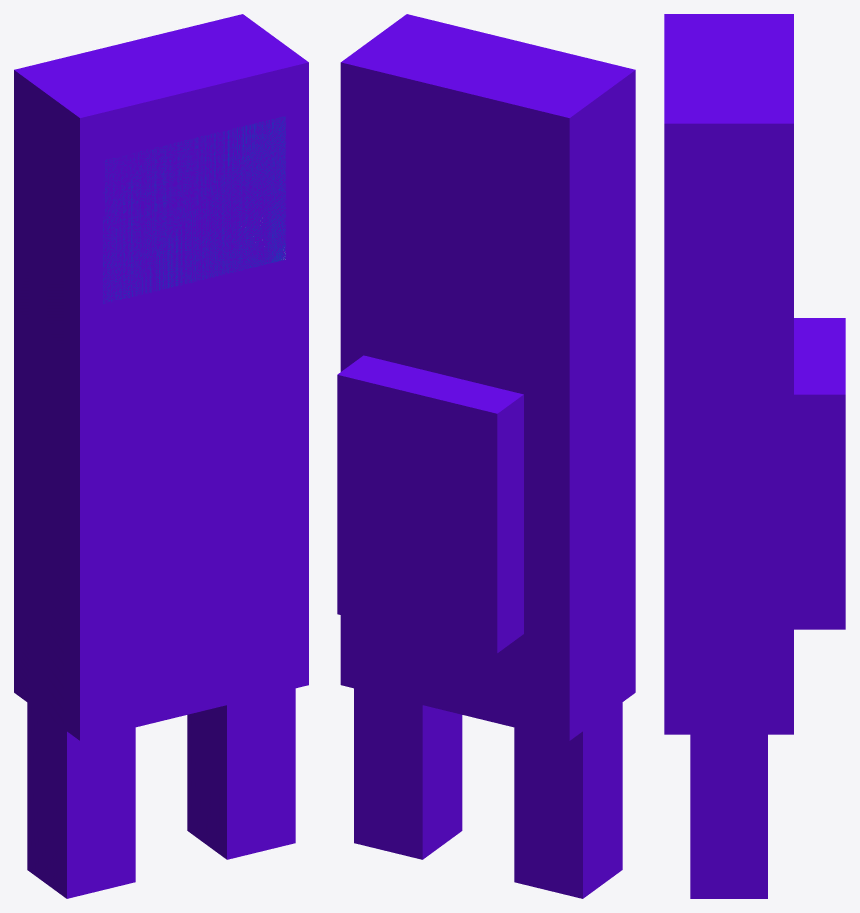
The model's file is Among Us Char(Purple).gltf.
3 views of the same model, side by side, from view 1: azimuth 30°, elevation 25°; view 2: azimuth 150°, elevation 25°; view 3: azimuth 270°, elevation 25° (orthographic).
Visible parts, largest first — view 1: 05df4ede-f837-c188-2e33-ef64abd97eee, cc3eb372-91fc-9da0-78a3-6f8f9a1f2dee, 3fa73543-9e25-d95c-6e87-302f2be02166, 2d3a24b5-ea57-e50f-346a-9413c0539ccd, 9b6c5594-3cbf-47c0-bc0a-358ef91bbe2c; view 2: cc3eb372-91fc-9da0-78a3-6f8f9a1f2dee, 05df4ede-f837-c188-2e33-ef64abd97eee, 5496d620-28b4-4bca-3728-1c5a1bee6332, 3fa73543-9e25-d95c-6e87-302f2be02166, 2d3a24b5-ea57-e50f-346a-9413c0539ccd; view 3: 05df4ede-f837-c188-2e33-ef64abd97eee, cc3eb372-91fc-9da0-78a3-6f8f9a1f2dee, 5496d620-28b4-4bca-3728-1c5a1bee6332, 2d3a24b5-ea57-e50f-346a-9413c0539ccd.
Boxes of the visible parts, bbox=[...] form: 05df4ede-f837-c188-2e33-ef64abd97eee: bbox=[14, 302, 308, 740]; cc3eb372-91fc-9da0-78a3-6f8f9a1f2dee: bbox=[14, 14, 308, 357]; 3fa73543-9e25-d95c-6e87-302f2be02166: bbox=[27, 702, 135, 898]; 2d3a24b5-ea57-e50f-346a-9413c0539ccd: bbox=[187, 688, 295, 859]; 9b6c5594-3cbf-47c0-bc0a-358ef91bbe2c: bbox=[103, 116, 285, 303]; cc3eb372-91fc-9da0-78a3-6f8f9a1f2dee: bbox=[340, 14, 635, 357]; 05df4ede-f837-c188-2e33-ef64abd97eee: bbox=[340, 302, 635, 740]; 5496d620-28b4-4bca-3728-1c5a1bee6332: bbox=[337, 355, 523, 653]; 3fa73543-9e25-d95c-6e87-302f2be02166: bbox=[514, 702, 622, 898]; 2d3a24b5-ea57-e50f-346a-9413c0539ccd: bbox=[354, 688, 462, 859]; 05df4ede-f837-c188-2e33-ef64abd97eee: bbox=[664, 358, 793, 734]; cc3eb372-91fc-9da0-78a3-6f8f9a1f2dee: bbox=[664, 14, 793, 358]; 5496d620-28b4-4bca-3728-1c5a1bee6332: bbox=[794, 318, 845, 629]; 2d3a24b5-ea57-e50f-346a-9413c0539ccd: bbox=[690, 734, 767, 898].
Size of the model in its own units: 0.625 by 2.06 by 0.4375.
Materials: 4 (4 with a texture image).
